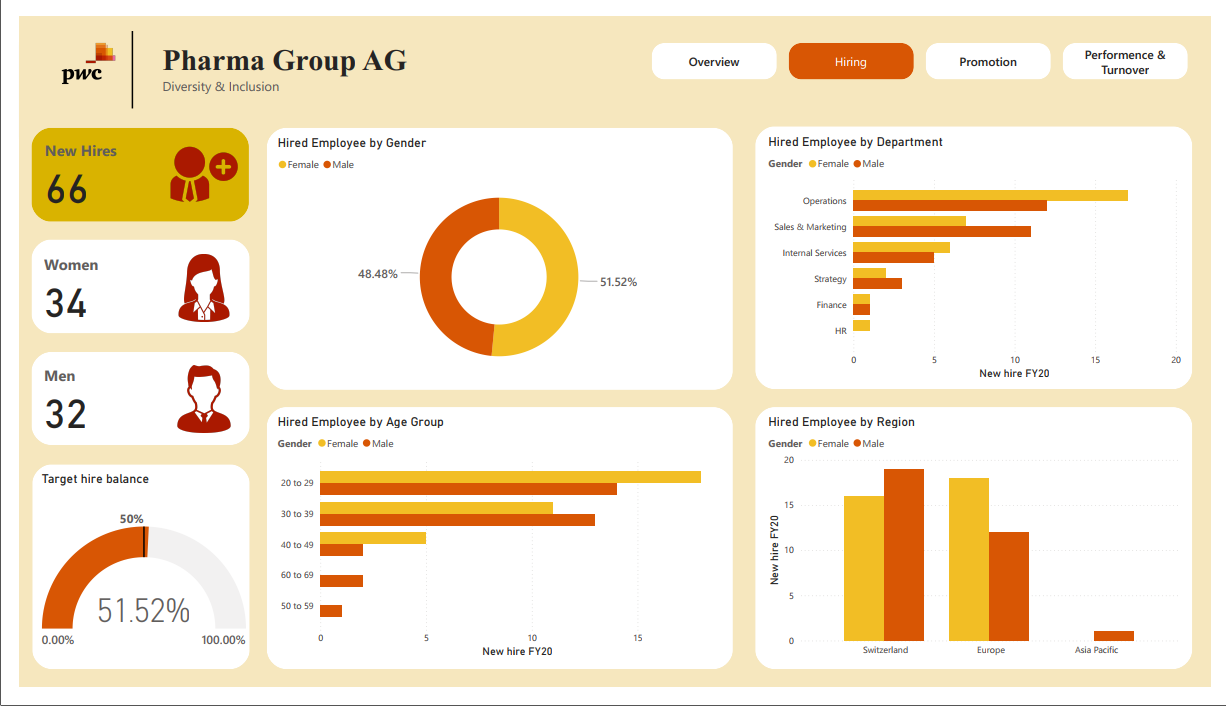

What the dashboard file says about the page in this screenshot:
{"tool":"powerbi","page":{"name":"Hiring","canvas":[1600,900],"ordinal":1},"visuals":[{"type":"shape","box":[17.7,601.3,292.4,274.7],"z":0},{"type":"shape","box":[988.6,524.3,587.1,351.4],"z":1000},{"type":"shape","box":[332.9,148.6,625.7,352.9],"z":2000},{"type":"shape","box":[332.9,524.3,625.7,351.4],"z":3000},{"type":"shape","box":[988.6,147.1,587.1,352.9],"z":4000},{"type":"image","box":[33.8,8.8,120,106.2],"z":5000},{"type":"textbox","title":"Pharma Group AG","box":[188.4,34.9,345.3,70.9],"z":6000},{"type":"shape","box":[102.3,18.6,101.2,104.7],"z":7000},{"type":"gauge","title":"Target hire balance","fields":{"TargetValue":["Avg(Pharma Group AG.Target hire balance)"],"Y":["_Measures Table.Female Hires %"]},"box":[25.9,609.6,284.2,267.6],"z":8000},{"type":"clusteredBarChart","title":"Hired Employee  by Department","fields":{"Category":["Pharma Group AG.Last Department in FY20"],"Y":["_Measures Table.New hire FY20"],"Series":["Pharma Group AG.Gender"]},"box":[1001.6,157.8,564.4,333.9],"z":9000},{"type":"shape","box":[17.4,450.2,292.4,125.3],"z":10000},{"type":"shape","box":[17.4,299.3,292.4,125.3],"z":11000},{"type":"shape","box":[17.4,148.5,292,126.5],"z":12000},{"type":"cardVisual","fields":{"Data":["Measures Table.Hires Female"]},"box":[17.4,300.5,292.4,125.3],"z":13000},{"type":"cardVisual","fields":{"Data":["Measures Table.Hires Men"]},"box":[17.4,450.2,292.4,125.3],"z":14000},{"type":"cardVisual","fields":{"Data":["Measures Table.New hire FY20"]},"box":[17.6,148,292.5,126.9],"z":15000},{"type":"clusteredBarChart","title":"Hired Employee by Age Group","fields":{"Category":["Pharma Group AG.Age group"],"Y":["_Measures Table.New hire FY20"],"Series":["Pharma Group AG.Gender"]},"box":[342.9,532.6,604.1,333.9],"z":16000},{"type":"clusteredColumnChart","title":"Hired Employee by Region","fields":{"Category":["Pharma Group AG.Region group: nationality 1"],"Series":["Pharma Group AG.Gender"],"Y":["_Measures Table.New hire FY20"]},"box":[1001.6,532.6,564.4,335],"z":17000},{"type":"donutChart","title":"Hired Employee by Gender","fields":{"Category":["Pharma Group AG.Gender"],"Y":["Measures Table.New hire FY20"]},"box":[342.9,159,604.1,332.7],"z":18000},{"type":"pageNavigator","box":[849.6,34.8,723.6,49.6],"z":19000}]}

Visuals, with their boxes in screenshot pixels (x1, y1, x2, y2), scaled from the page's 1600x900 canvas onto the 1226x706 screenshot:
shape: {"x1": 14, "y1": 472, "x2": 238, "y2": 687}
shape: {"x1": 758, "y1": 411, "x2": 1207, "y2": 687}
shape: {"x1": 255, "y1": 117, "x2": 735, "y2": 393}
shape: {"x1": 255, "y1": 411, "x2": 735, "y2": 687}
shape: {"x1": 758, "y1": 115, "x2": 1207, "y2": 392}
image: {"x1": 26, "y1": 7, "x2": 118, "y2": 90}
"Pharma Group AG" textbox: {"x1": 144, "y1": 27, "x2": 409, "y2": 83}
shape: {"x1": 78, "y1": 15, "x2": 156, "y2": 97}
"Target hire balance" gauge: {"x1": 20, "y1": 478, "x2": 238, "y2": 688}
"Hired Employee  by Department" clusteredBarChart: {"x1": 767, "y1": 124, "x2": 1200, "y2": 386}
shape: {"x1": 13, "y1": 353, "x2": 237, "y2": 451}
shape: {"x1": 13, "y1": 235, "x2": 237, "y2": 333}
shape: {"x1": 13, "y1": 116, "x2": 237, "y2": 216}
cardVisual - Measures Table.Hires Female: {"x1": 13, "y1": 236, "x2": 237, "y2": 334}
cardVisual - Measures Table.Hires Men: {"x1": 13, "y1": 353, "x2": 237, "y2": 451}
cardVisual - Measures Table.New hire FY20: {"x1": 13, "y1": 116, "x2": 238, "y2": 216}
"Hired Employee by Age Group" clusteredBarChart: {"x1": 263, "y1": 418, "x2": 726, "y2": 680}
"Hired Employee by Region" clusteredColumnChart: {"x1": 767, "y1": 418, "x2": 1200, "y2": 681}
"Hired Employee by Gender" donutChart: {"x1": 263, "y1": 125, "x2": 726, "y2": 386}
pageNavigator: {"x1": 651, "y1": 27, "x2": 1205, "y2": 66}
